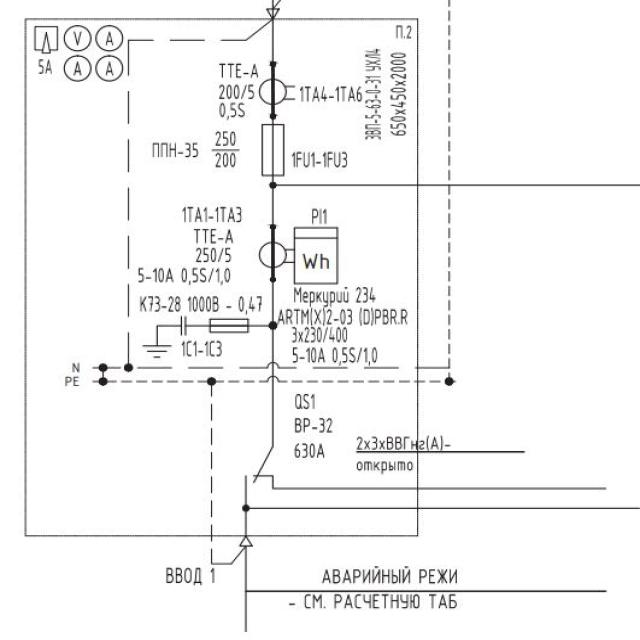-: (275, 285, 414, 364), (136, 225, 240, 285), (361, 43, 412, 145), (148, 128, 242, 172), (290, 415, 338, 462), (214, 83, 258, 120), (35, 56, 58, 78)
FU: (257, 120, 290, 177)
PA: (62, 52, 95, 86), (95, 22, 127, 54), (95, 52, 127, 84)
PV: (62, 23, 92, 50)
QS: (244, 444, 278, 484)
TT: (258, 75, 298, 111), (255, 239, 295, 271)
WH: (292, 225, 340, 285)
